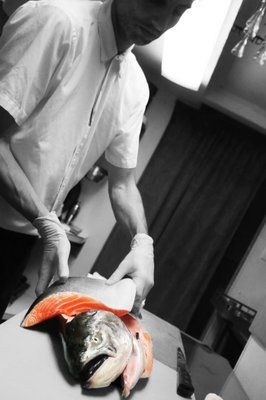sushi: (20, 288, 155, 400)
